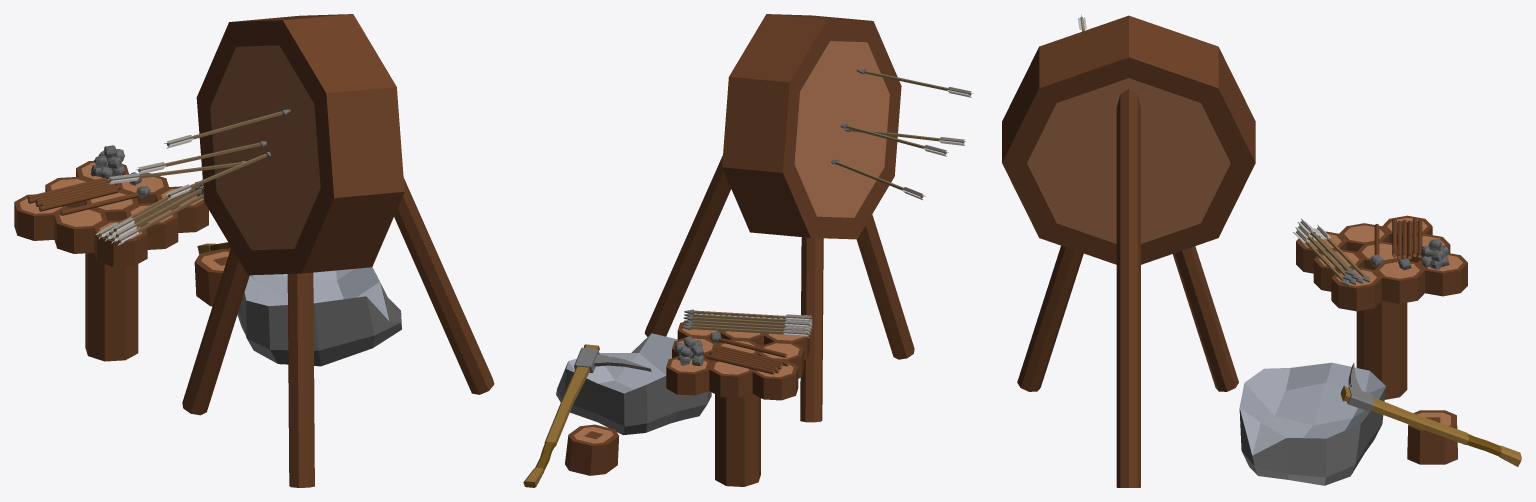
The model's file is ArrowTable.fbx.
The picture shows the model from 3 angles, left to right: view 1: azimuth 30°, elevation 25°; view 2: azimuth 150°, elevation 25°; view 3: azimuth 270°, elevation 25°; orthographic projection. The views are drawn at different scales.
Visible parts, largest first — view 1: Arrow_Table; view 2: Arrow_Table; view 3: Arrow_Table.
Part boxes in pixels (box(x1,y1,x2,y2)): Arrow_Table: box(14, 14, 494, 487); Arrow_Table: box(523, 14, 973, 487); Arrow_Table: box(1002, 14, 1521, 487).
Size of the model in its own units: 149 by 171 by 205.
